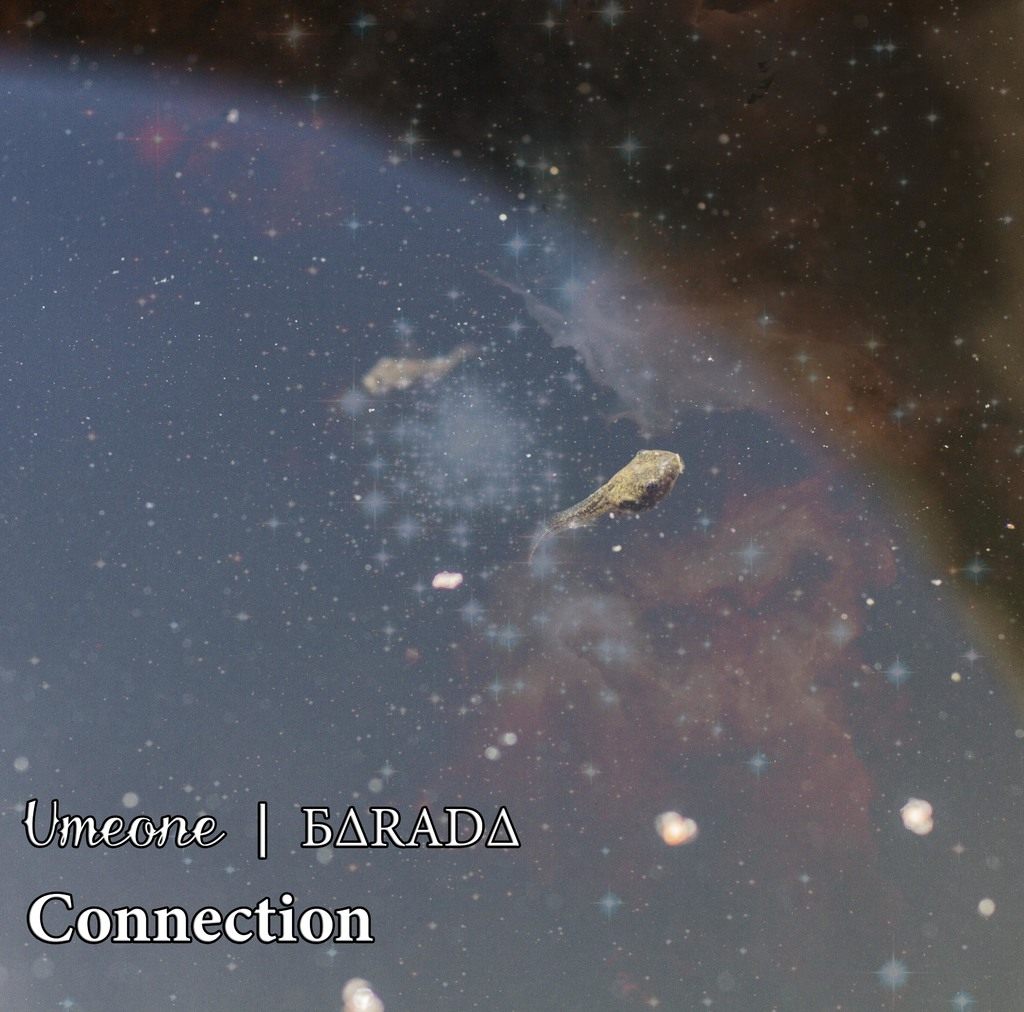Animal: (557, 442, 690, 525), (362, 345, 473, 397)
